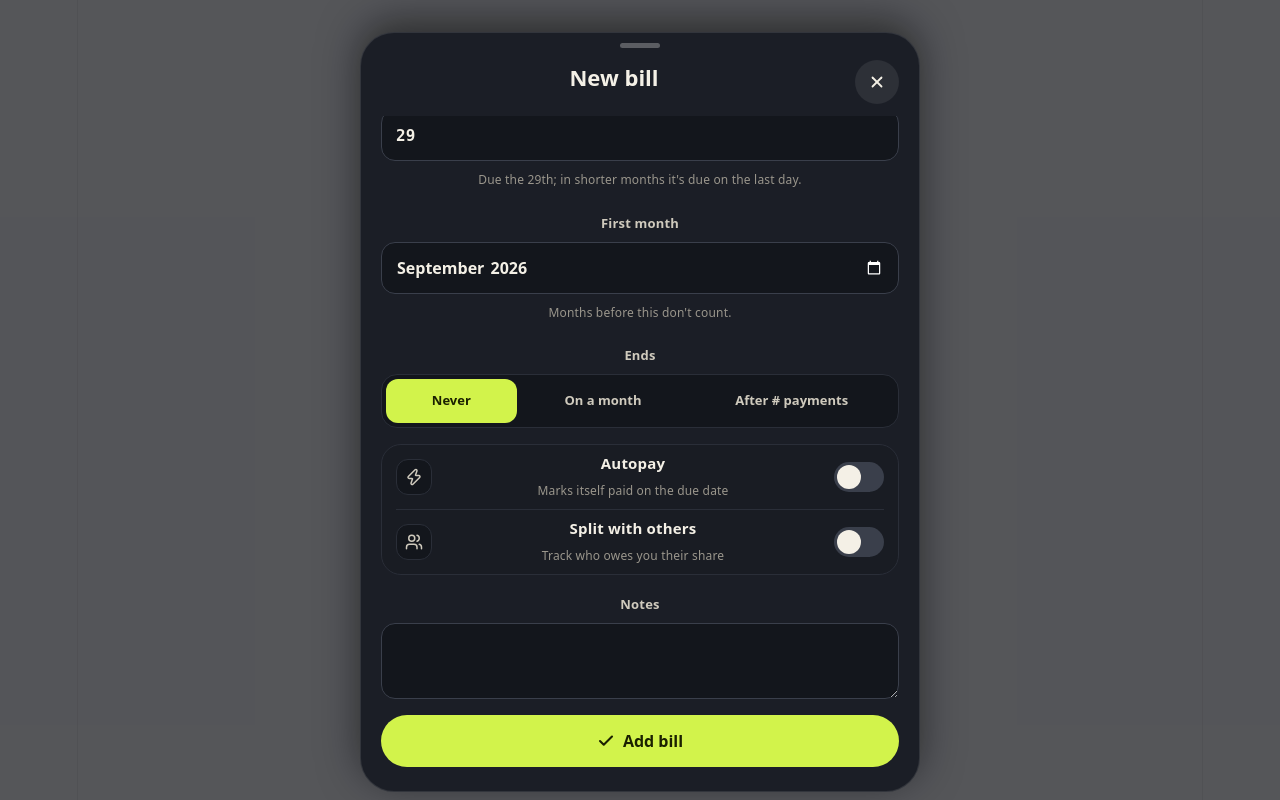
EditSheet › shows what's wrong instead of saving
(page scrolled)
Step 1. Click the button "Add bill" → (640, 741), box [381, 715, 899, 767]
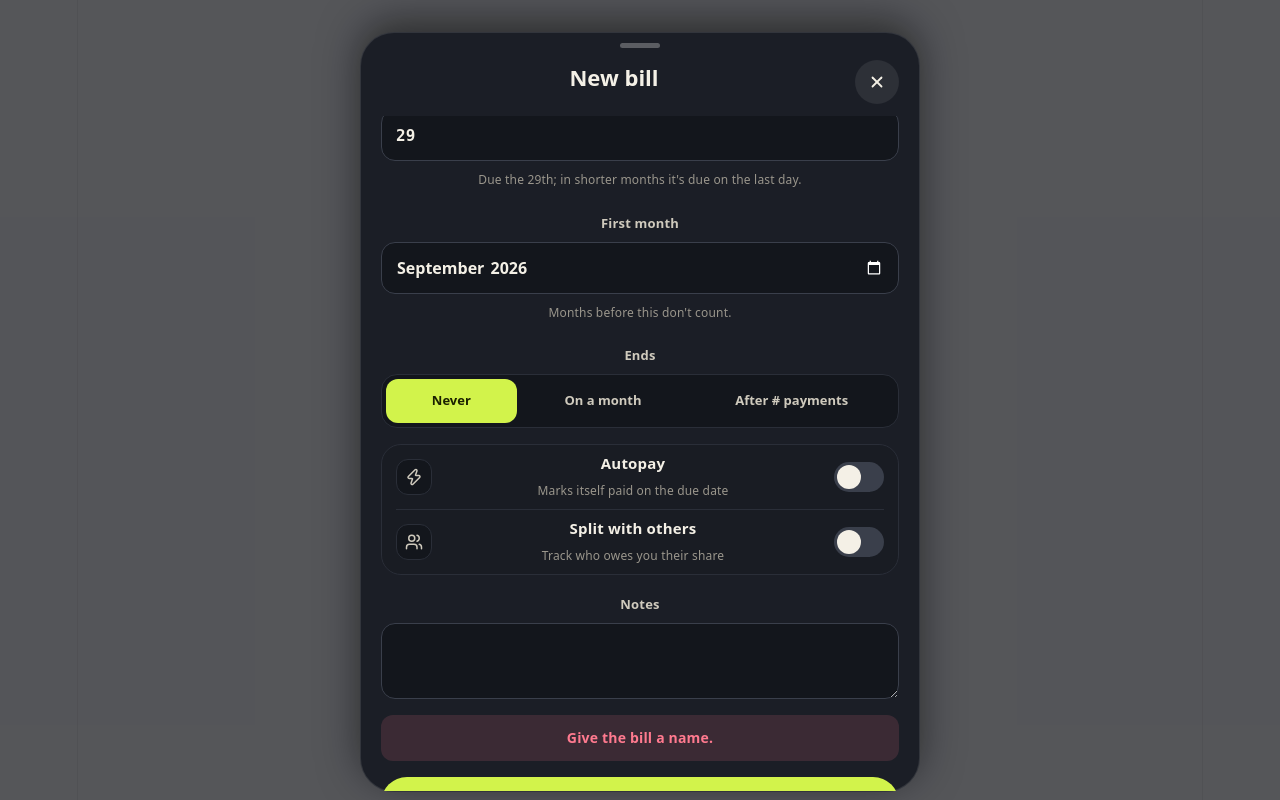
Now the message reads "Give the bill a name.", box [567, 728, 713, 747]
